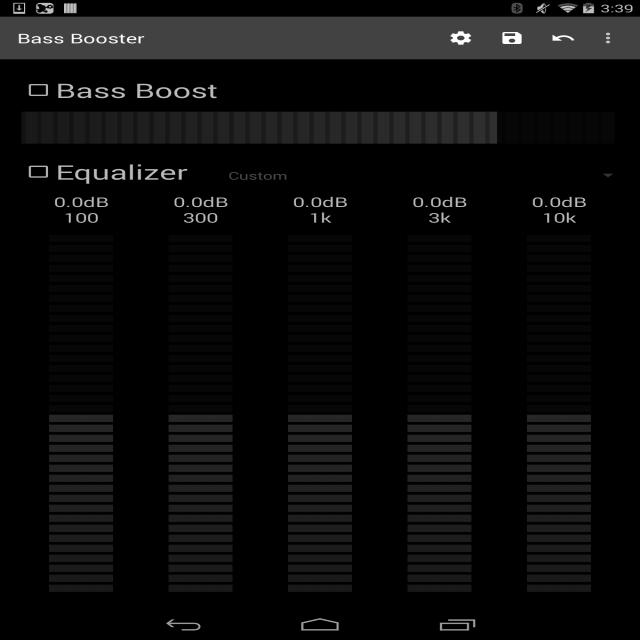CheckBox: (21, 72, 218, 108), (21, 154, 188, 190)
ImageView: (589, 22, 631, 54)
SeekBar: (21, 108, 619, 148), (49, 226, 113, 595), (168, 226, 232, 595), (288, 226, 352, 595), (408, 226, 472, 595), (527, 226, 591, 595)
Spinner: (220, 168, 618, 184)
TextView: (219, 168, 602, 183), (21, 193, 141, 226), (260, 193, 380, 226), (499, 193, 619, 226), (141, 193, 260, 226), (380, 193, 499, 226), (17, 29, 145, 47), (487, 22, 538, 54), (436, 22, 486, 54), (538, 22, 588, 54)
